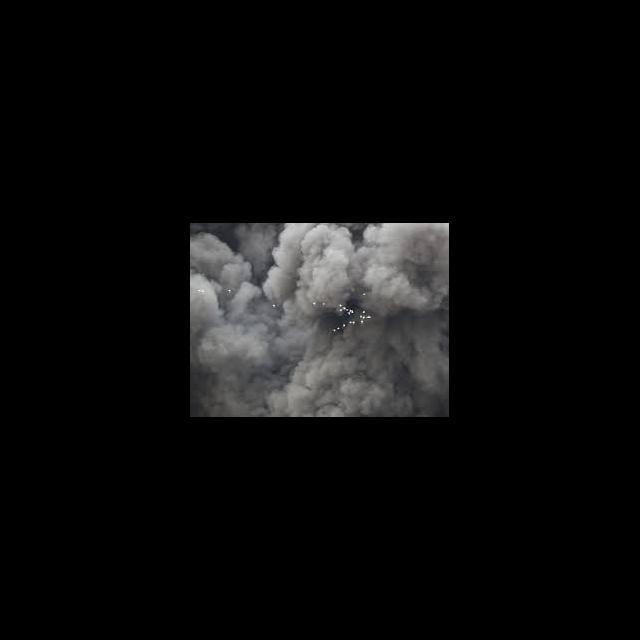Smoke: (190, 223, 448, 416)
